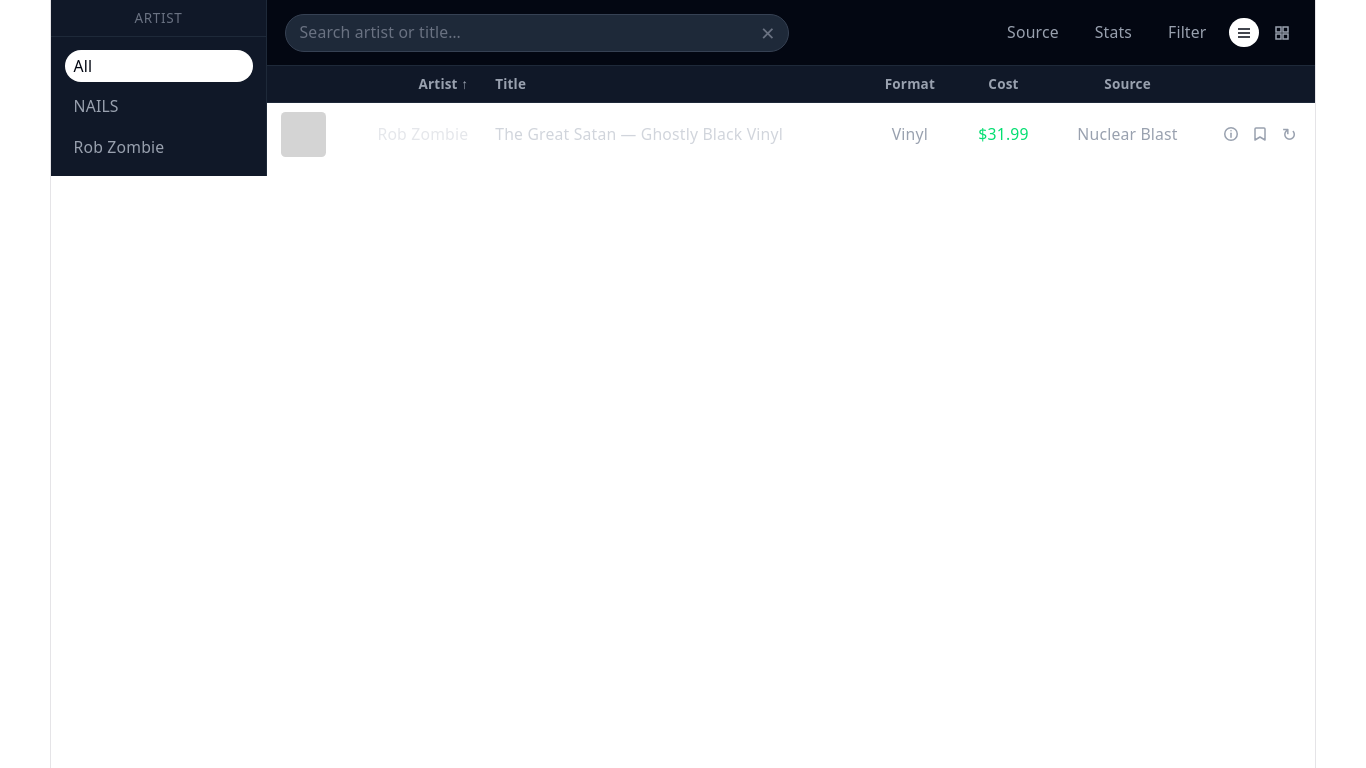
Test case: StockBrowser › labels the rejected verdict in the popover
Expected: the text "The Great Satan — Ghostly Black Vinyl" is shown, x1=482 y1=102 x2=863 y2=166
Click the button titled "Recommendation details": point(1231, 134) x1=1218 y1=122 x2=1243 y2=147
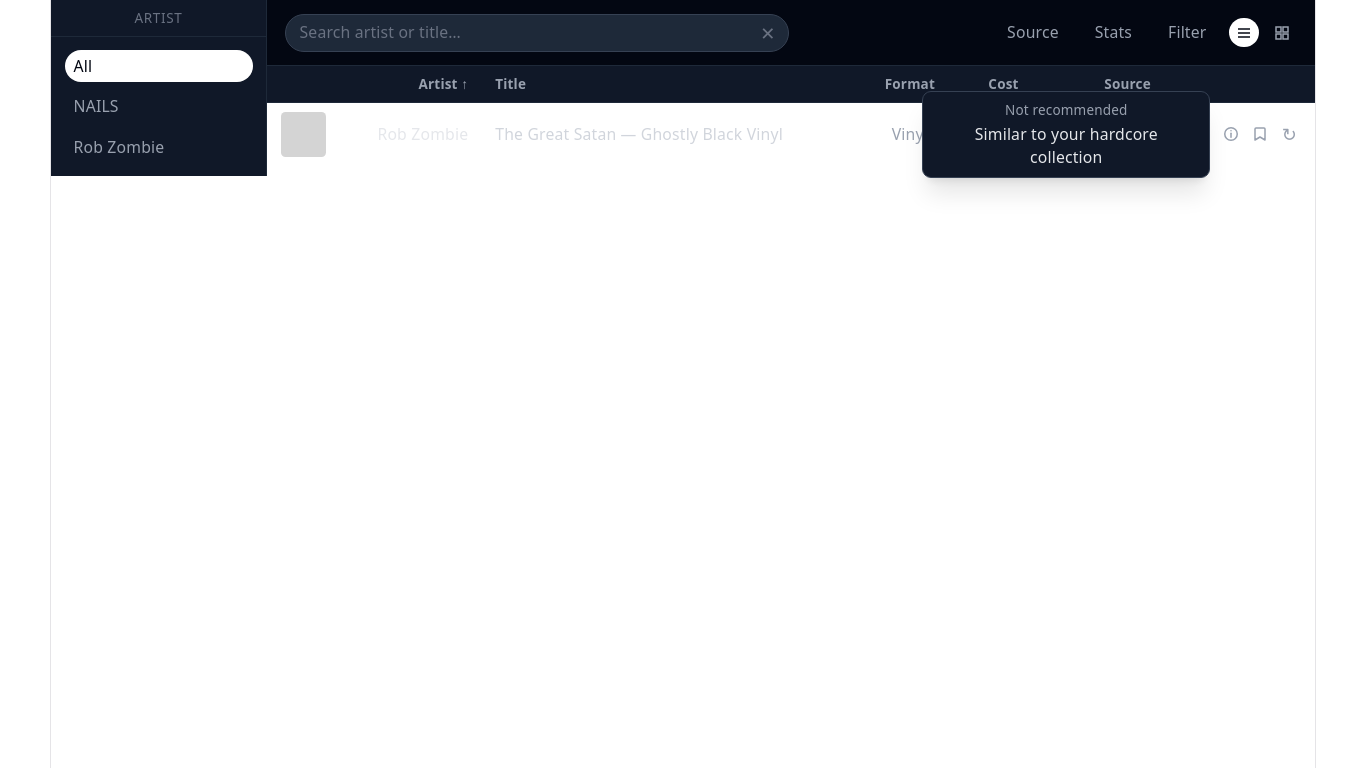
Expected: the element showing "Not recommended Similar to your hardcore collection" is shown, x1=922 y1=91 x2=1210 y2=178
